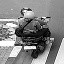motor: (14, 7, 52, 57)
